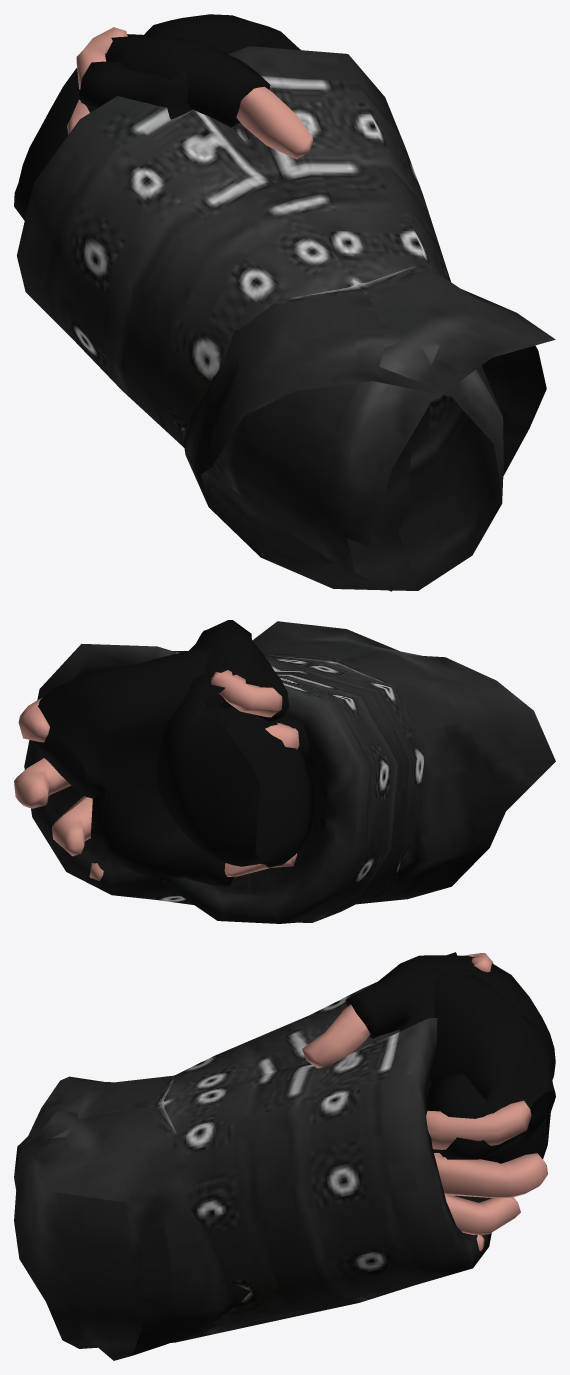
Rendered from maos_volante.glb.
The picture shows the model from 3 angles, top to bottom: view 1: azimuth 30°, elevation 25°; view 2: azimuth 150°, elevation 25°; view 3: azimuth 270°, elevation 25°; orthographic projection. The views are drawn at different scales.
Parts seen in each view (by area): view 1: MaoEsq, MaoDir; view 2: MaoEsq, MaoDir; view 3: MaoDir, MaoEsq.
Part boxes in pixels (x1=…): MaoEsq: x1=14, y1=34, x2=555, y2=591; MaoDir: x1=67, y1=14, x2=503, y2=590; MaoEsq: x1=14, y1=620, x2=424, y2=923; MaoDir: x1=24, y1=643, x2=555, y2=904; MaoDir: x1=14, y1=952, x2=555, y2=1348; MaoEsq: x1=14, y1=955, x2=555, y2=1360.
Bounding box in the file's own units: 0.1683 × 0.1785 × 0.2384.
2 materials, 2 textured.
